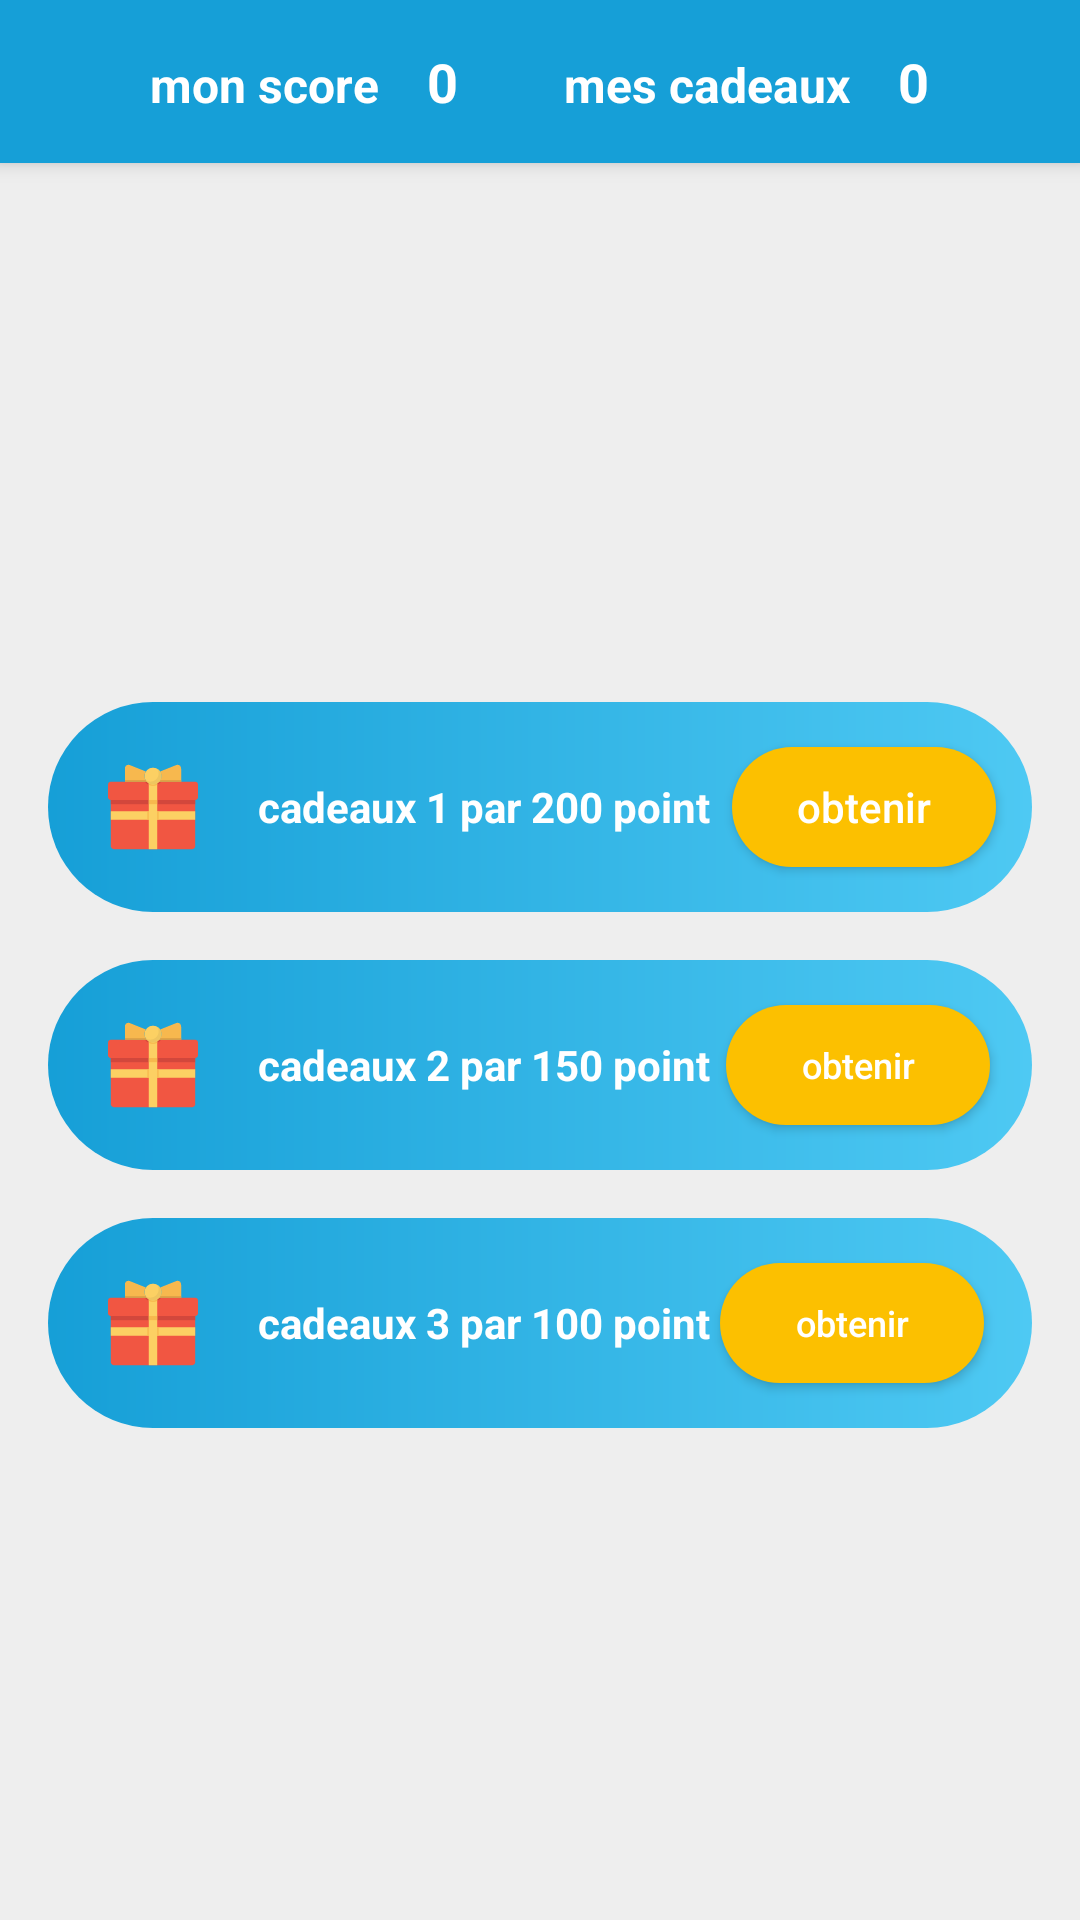

Icon bounding boxes for this 1080w x 1920h phone screenshot, format [x1=x1, y1=y1, x2=x2, y2=y2]:
gift: [x1=48, y1=702, x2=258, y2=912], [x1=48, y1=960, x2=258, y2=1170], [x1=48, y1=1218, x2=258, y2=1428]
